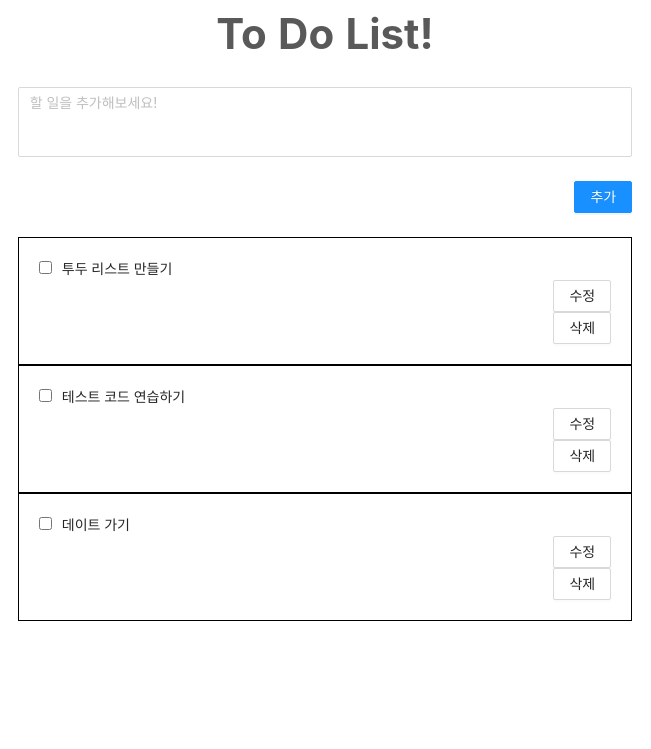
Test: 투두리스트 애플리케이션 테스트 › 투두리스트 추가하기
This screenshot has width=651, height=749.
Type "쿠키 놀아주기" into the text box with id "addTodoForm" at [325, 122], box [18, 87, 632, 157]
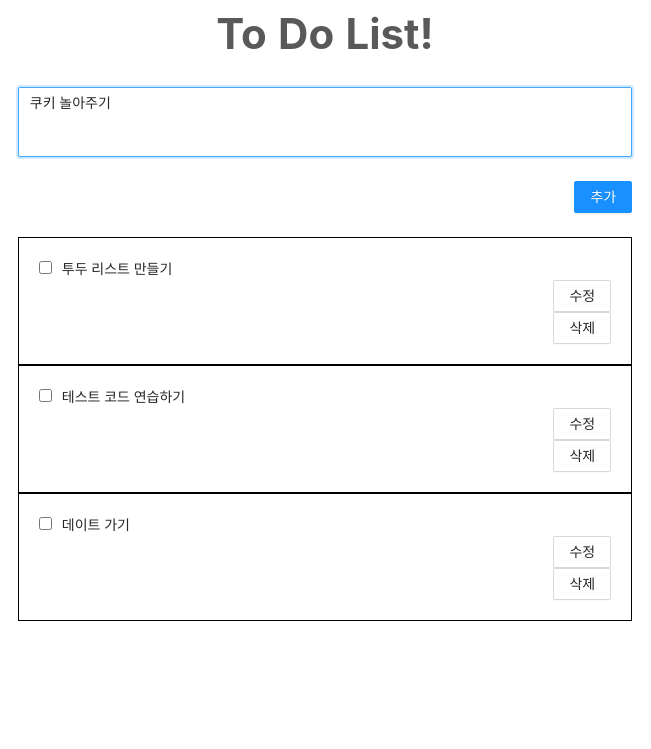
Click the button with id "addTodoBtn" at [603, 197], box [574, 181, 632, 213]
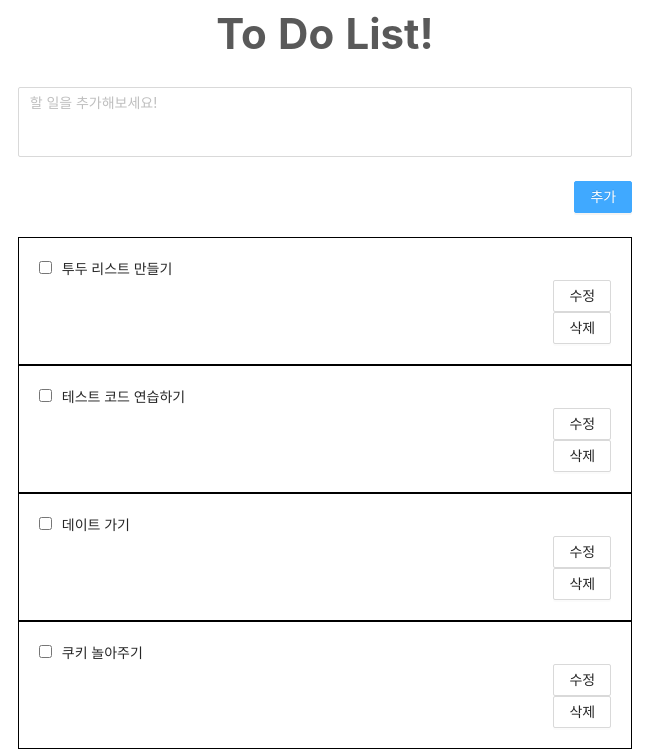
Expected: the text "쿠키 놀아주기" is shown, [62, 644, 143, 661]
